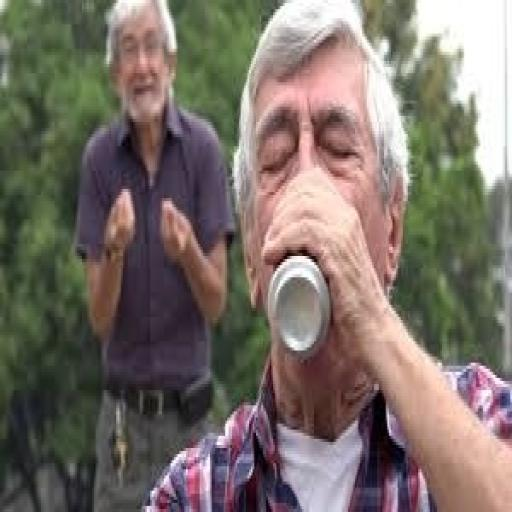drinking: (228, 58, 477, 448)
